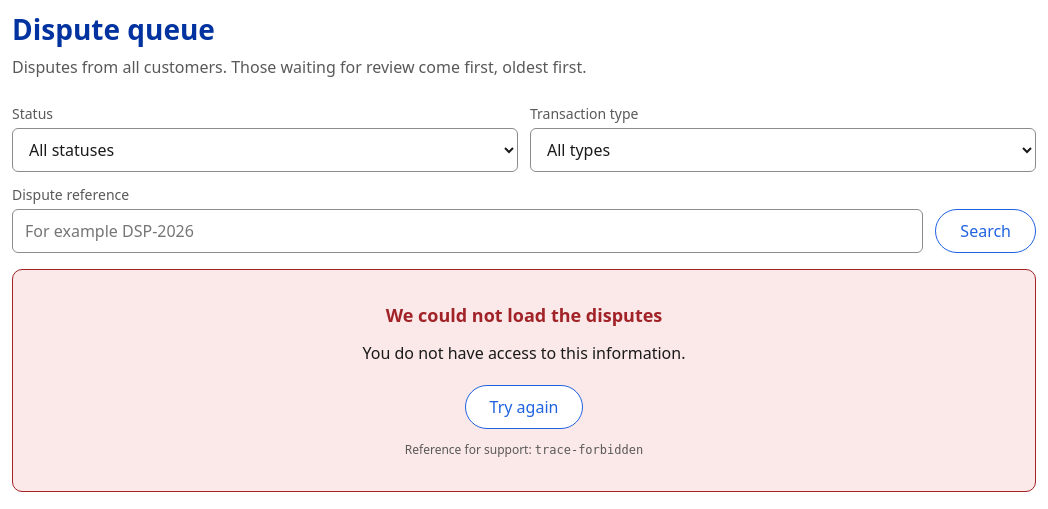
it: agent dispute queue › shows an API problem with its trace ID and retries
Expected: the message shows "We could not load the disputes", [386,303,662,327]
Expected: the message shows "trace-forbidden", [535,443,643,457]
Click the button "Try again" at (524, 407), box [465,385,583,429]
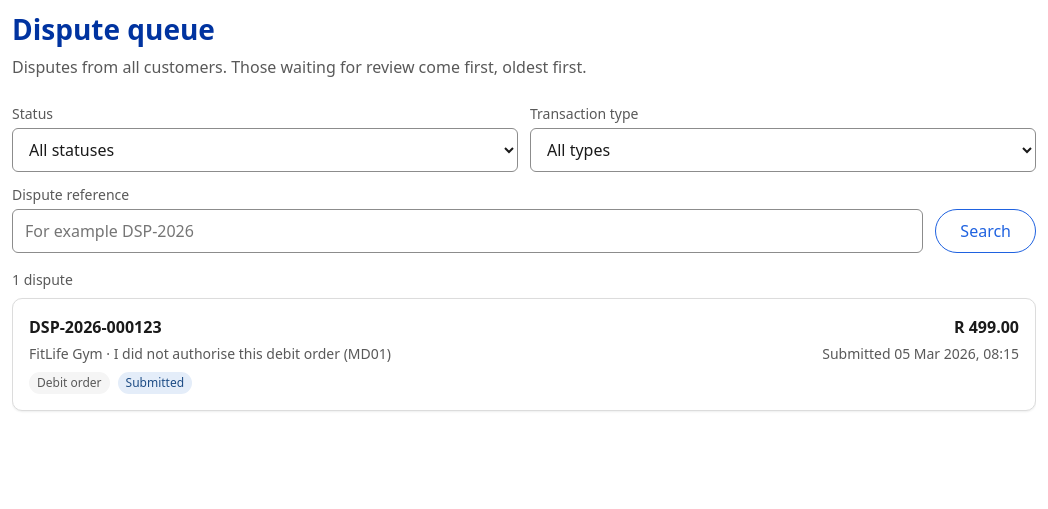
Expected: the list named "Disputes" is shown, [12,298,1036,411]
